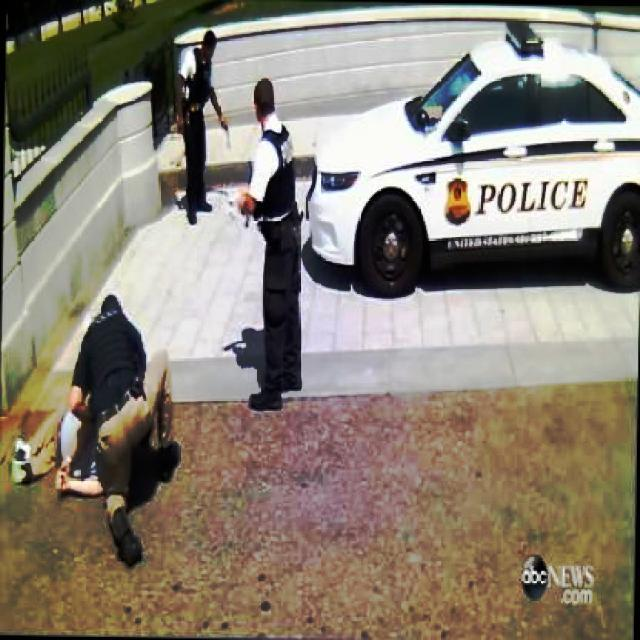Gun: (218, 100, 242, 158)
